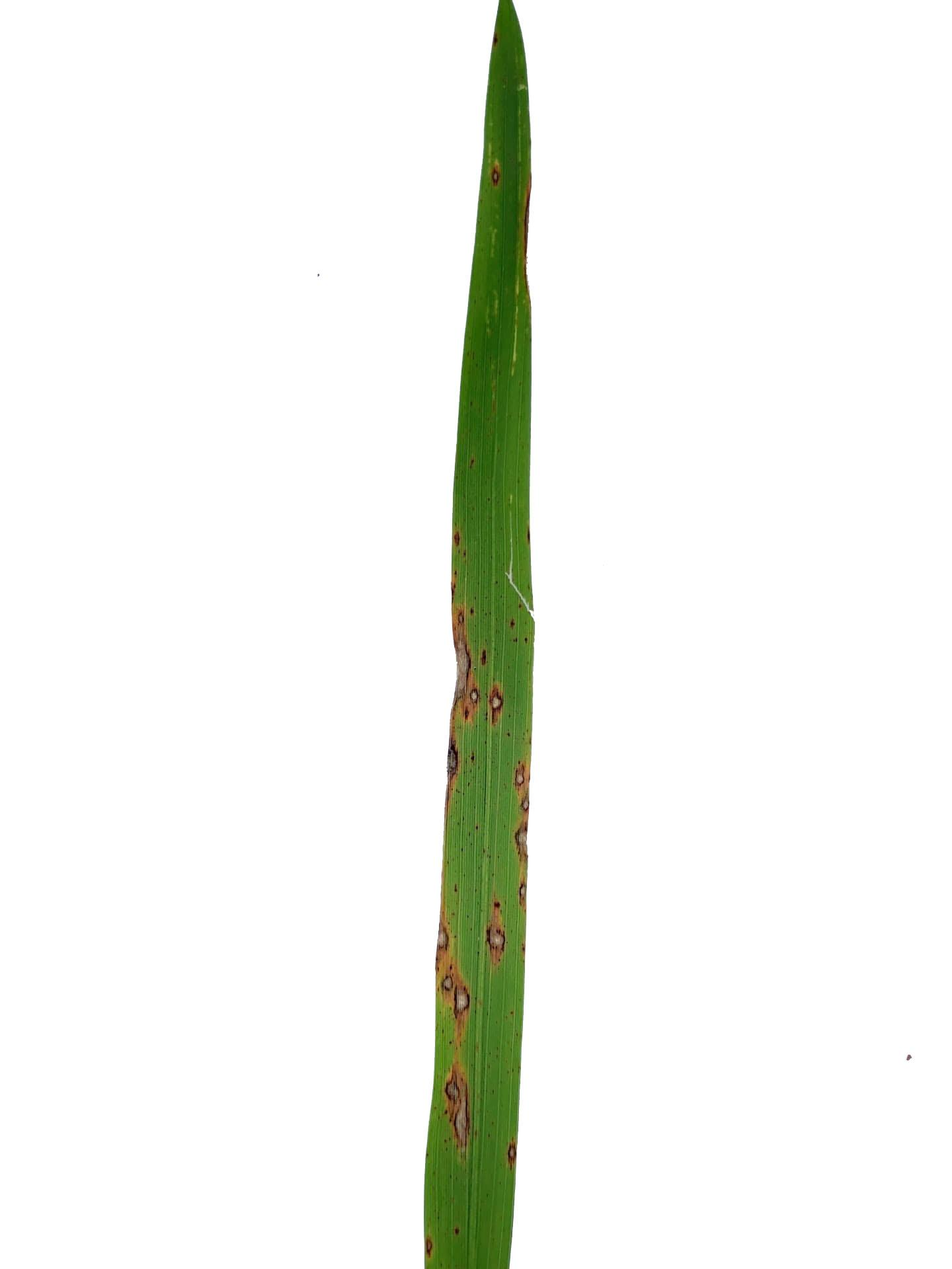Rice blast: (447, 1050, 478, 1159), (448, 602, 476, 712), (439, 967, 477, 1019), (485, 911, 502, 969), (515, 817, 531, 875), (487, 687, 507, 732), (485, 155, 507, 193), (466, 695, 483, 706)
